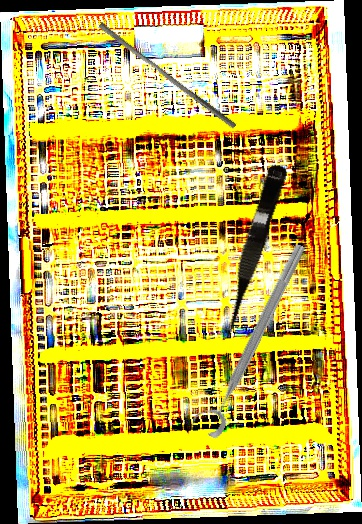Fixation Ring: (187, 235, 312, 441)
Micro Scissor: (214, 161, 289, 342)
Pusher: (94, 21, 241, 130)
